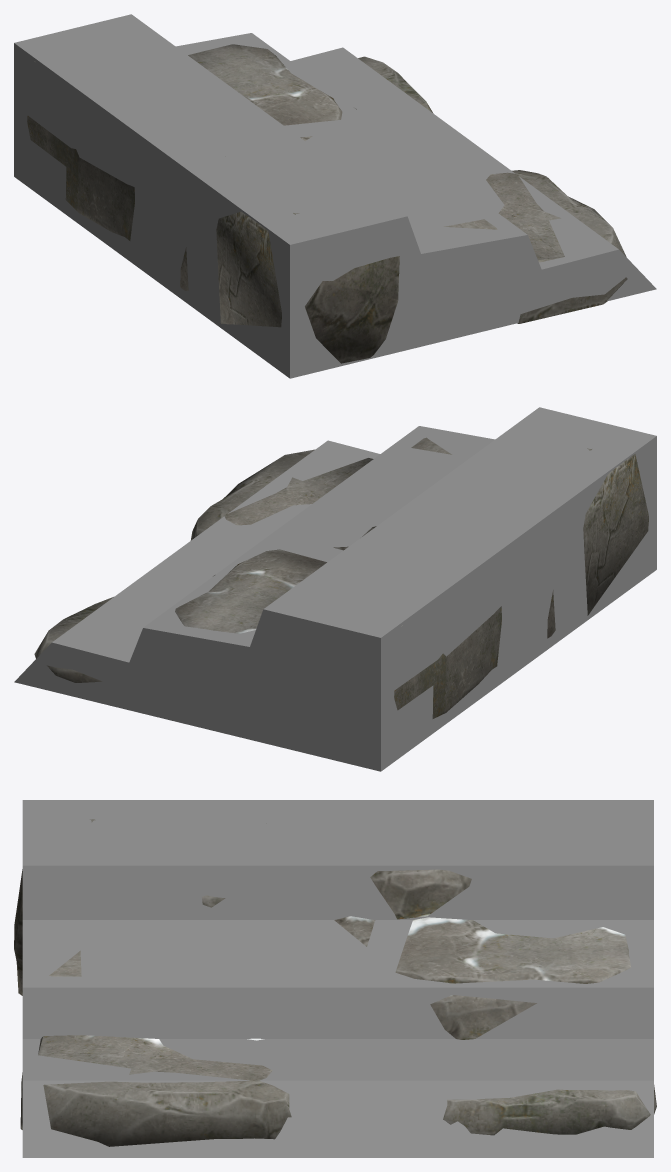
The model's file is Scene_Rock_TianShan_SuiShiTi_4.FBX.
The picture shows the model from 3 angles, top to bottom: view 1: azimuth 30°, elevation 25°; view 2: azimuth 150°, elevation 25°; view 3: azimuth 270°, elevation 25°; orthographic projection. The views are drawn at different scales.
Parts seen in each view (by area): view 1: Scene_Rock_TianShan_SuiShiTi_4_Xzm, Scene_Rock_TianShan_SuiShiTi_4; view 2: Scene_Rock_TianShan_SuiShiTi_4_Xzm, Scene_Rock_TianShan_SuiShiTi_4; view 3: Scene_Rock_TianShan_SuiShiTi_4_Xzm, Scene_Rock_TianShan_SuiShiTi_4.
Part boxes in pixels (x1=…): Scene_Rock_TianShan_SuiShiTi_4_Xzm: x1=14, y1=14, x2=656, y2=378; Scene_Rock_TianShan_SuiShiTi_4: x1=27, y1=44, x2=627, y2=363; Scene_Rock_TianShan_SuiShiTi_4_Xzm: x1=14, y1=407, x2=656, y2=771; Scene_Rock_TianShan_SuiShiTi_4: x1=34, y1=437, x2=648, y2=718; Scene_Rock_TianShan_SuiShiTi_4_Xzm: x1=22, y1=800, x2=653, y2=1157; Scene_Rock_TianShan_SuiShiTi_4: x1=14, y1=819, x2=656, y2=1146.
Size of the model in its own units: 276 by 99.22 by 364.
